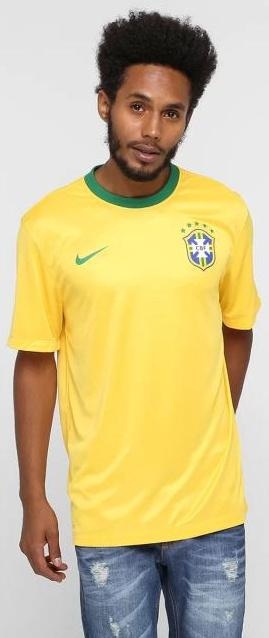no hat: (68, 1, 249, 186)
no vest: (8, 128, 269, 563)
